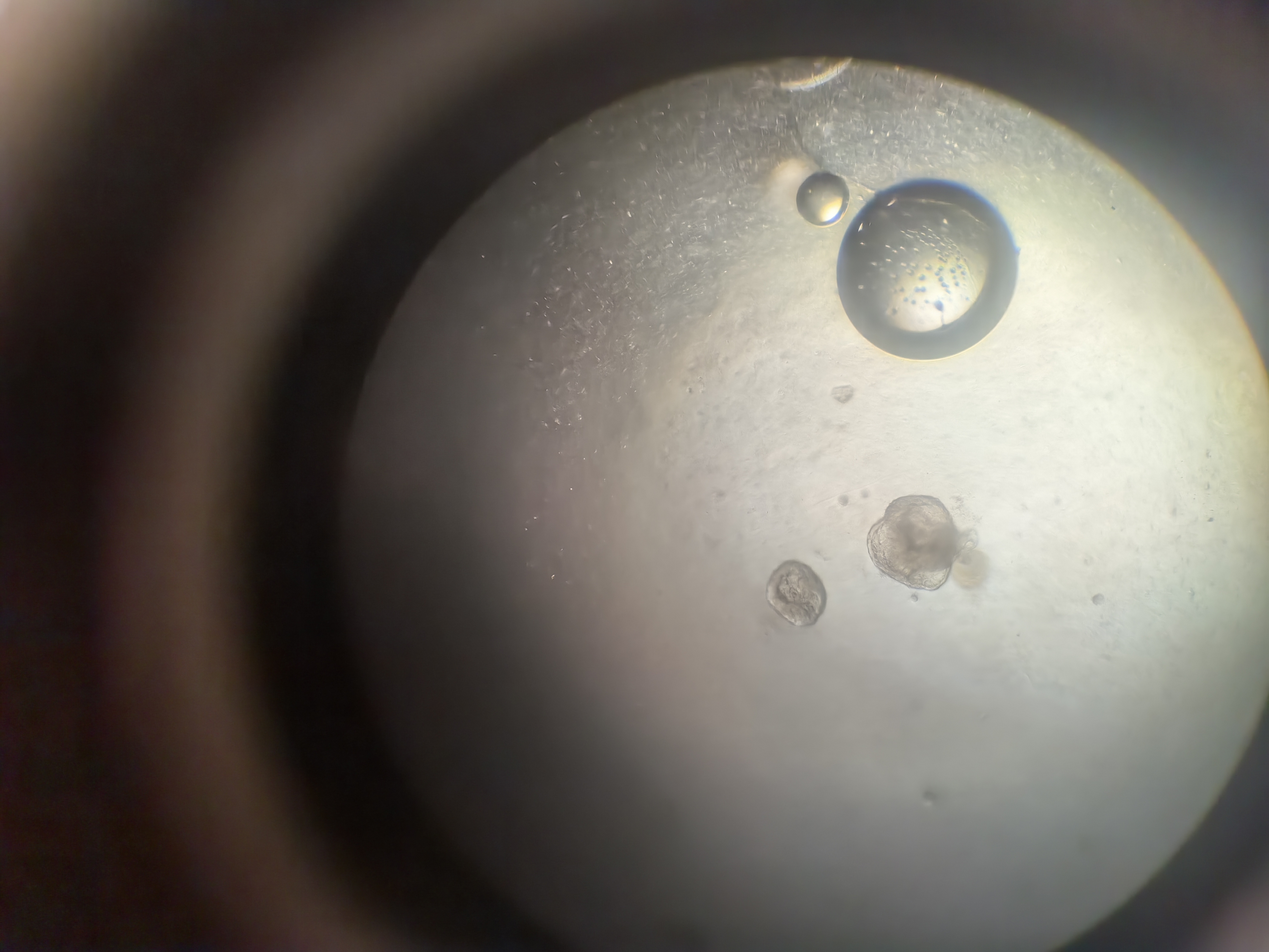organoid: (744, 447, 827, 566), (658, 228, 725, 302), (0, 0, 32, 41)
